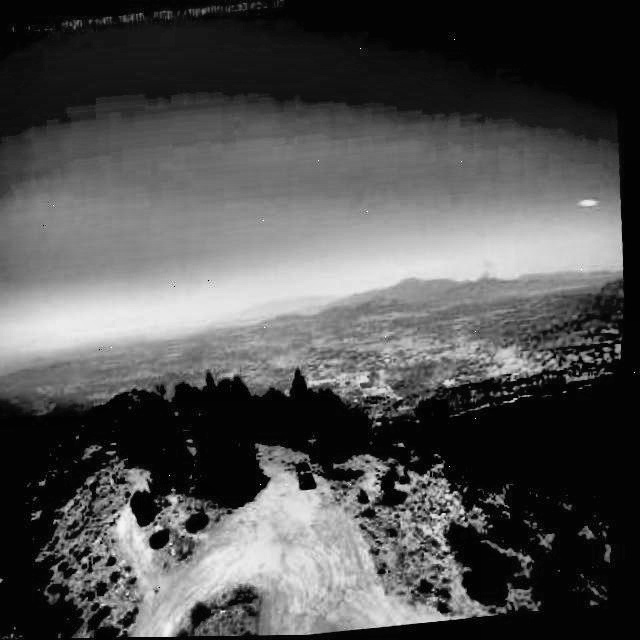Smoke: (469, 259, 502, 301)
